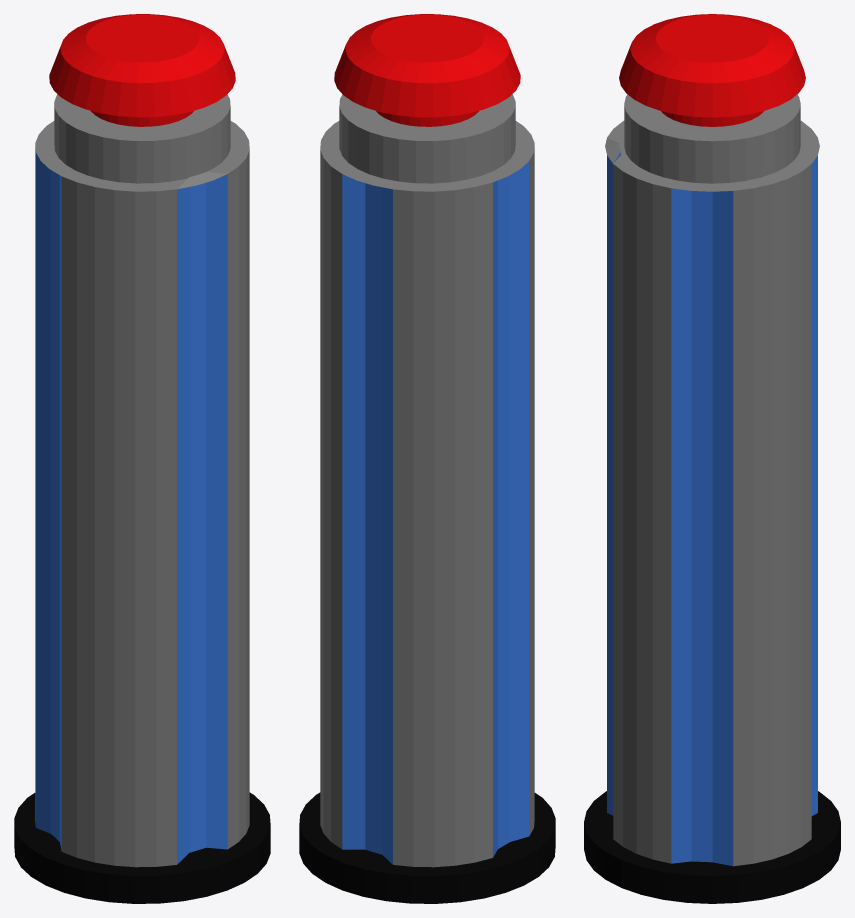
File: boutonConsole.fbx
3 views of the same model, side by side, from view 1: azimuth 30°, elevation 25°; view 2: azimuth 150°, elevation 25°; view 3: azimuth 270°, elevation 25° (orthographic).
Parts seen in each view (by area): view 1: Cylinder; view 2: Cylinder; view 3: Cylinder.
Part boxes in pixels (box(x1,y1,x2,y2)): Cylinder: box(14, 14, 270, 903); Cylinder: box(299, 14, 555, 903); Cylinder: box(584, 14, 840, 903).
Bounding box in the file's own units: 50 × 174 × 50.
